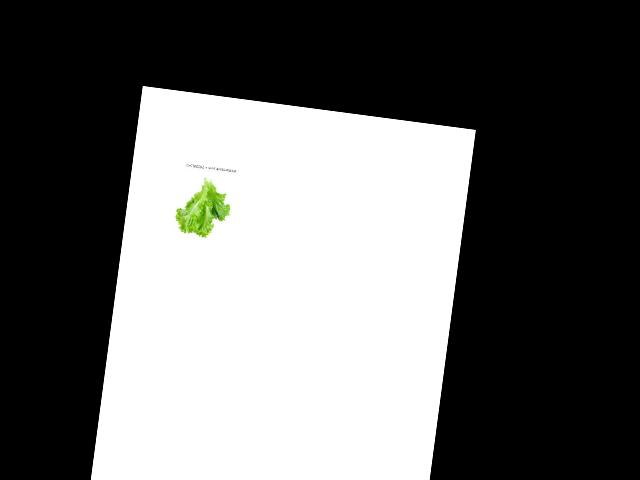lettuce: (173, 170, 235, 242)
